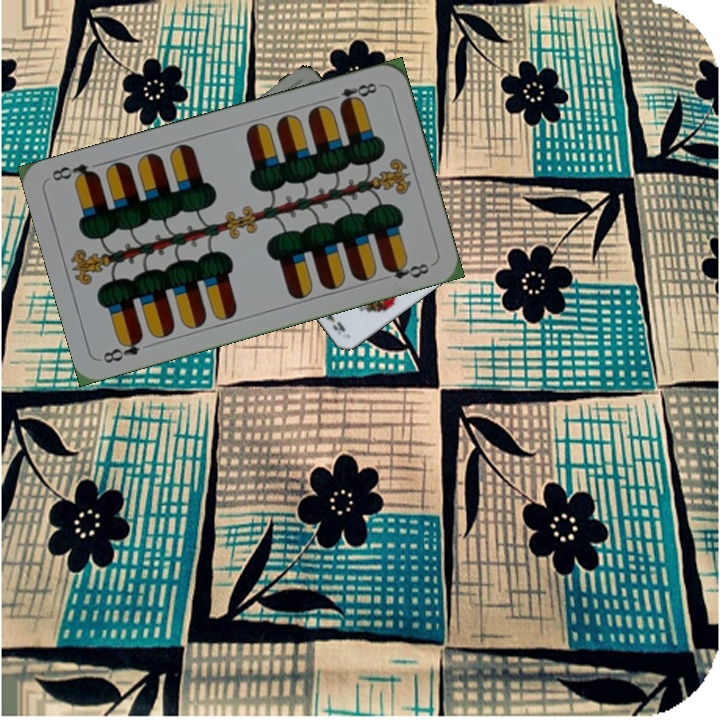E8: (325, 78, 380, 110), (98, 332, 146, 366)
